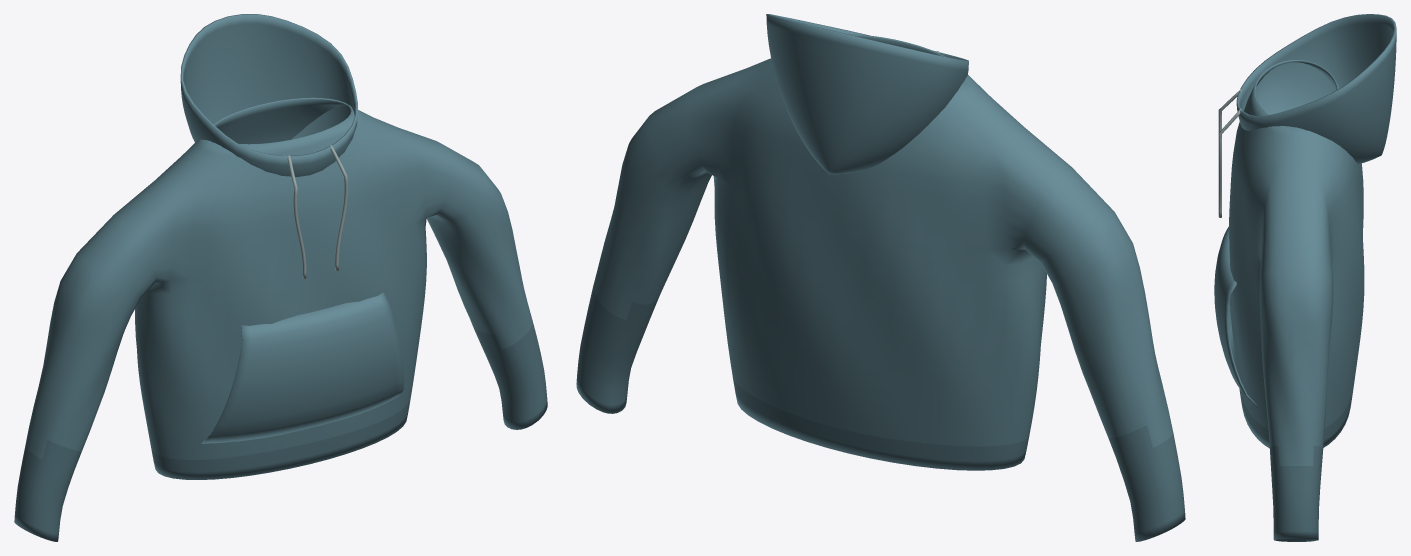
3 renders of one model, left to right at view 1: azimuth 30°, elevation 25°; view 2: azimuth 150°, elevation 25°; view 3: azimuth 270°, elevation 25°, orthographic. The views are drawn at different scales.
Visible parts, largest first — view 1: Continuous torso and open cuff sleeves, Kangaroo pocket cloth with two hand openings, Attached lined hood with finished opening; view 2: Continuous torso and open cuff sleeves, Attached lined hood with finished opening; view 3: Continuous torso and open cuff sleeves, Attached lined hood with finished opening, Kangaroo pocket cloth with two hand openings, Drawcord 1.
Part boxes in pixels (x1=…): Continuous torso and open cuff sleeves: x1=14, y1=97, x2=547, y2=541; Kangaroo pocket cloth with two hand openings: x1=202, y1=292, x2=404, y2=443; Attached lined hood with finished opening: x1=180, y1=14, x2=357, y2=177; Continuous torso and open cuff sleeves: x1=576, y1=34, x2=1185, y2=541; Attached lined hood with finished opening: x1=766, y1=14, x2=968, y2=174; Continuous torso and open cuff sleeves: x1=1229, y1=60, x2=1364, y2=541; Attached lined hood with finished opening: x1=1236, y1=14, x2=1396, y2=163; Kangaroo pocket cloth with two hand openings: x1=1214, y1=226, x2=1257, y2=407; Drawcord 1: x1=1218, y1=108, x2=1241, y2=217.
Size of the model in its own units: 1 by 0.7808 by 0.3165.
